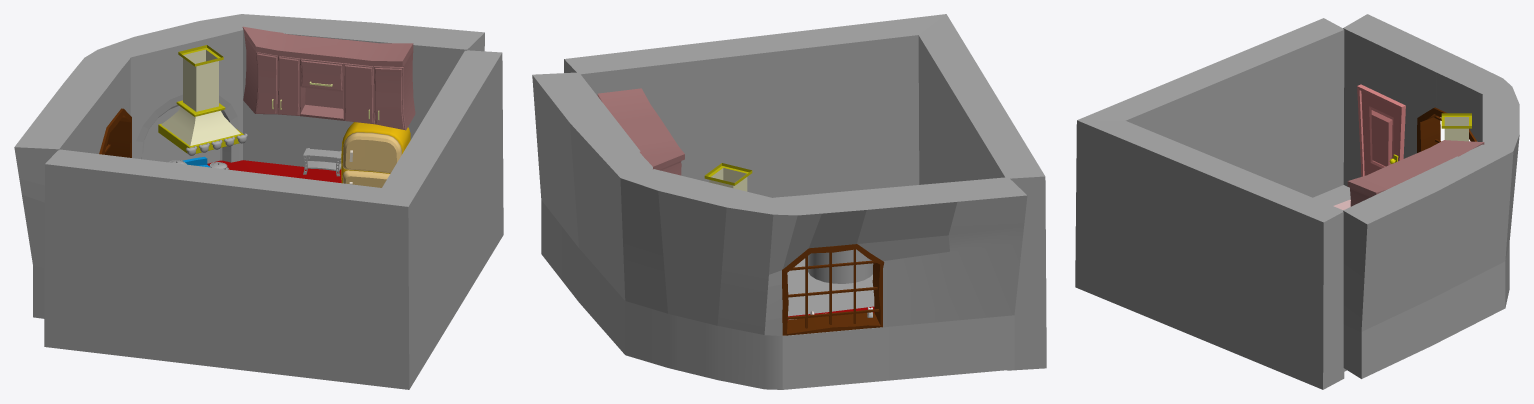
The model's file is kitchen_v02_sizing 1.fbx.
The picture shows the model from 3 angles, left to right: view 1: azimuth 30°, elevation 25°; view 2: azimuth 150°, elevation 25°; view 3: azimuth 270°, elevation 25°; orthographic projection. The views are drawn at different scales.
Visible parts, largest first — view 1: wall2, wall, dech_body, hood_body, refri_door1, dech_down_1, hood_popout, window, refri_body, shelf; view 2: wall, wall2, dech_body, window, floor, stage, pCube25, hood_body; view 3: wall2, wall, door_body, dech_body, window, hood_body, floor.
Boxes of the visible parts, bbox=[...] form: wall2: bbox=[44, 50, 503, 389]; wall: bbox=[14, 14, 484, 318]; dech_body: bbox=[242, 26, 415, 130]; hood_body: bbox=[161, 49, 240, 145]; refri_door1: bbox=[342, 132, 401, 187]; dech_down_1: bbox=[207, 160, 341, 182]; hood_popout: bbox=[158, 45, 243, 153]; window: bbox=[99, 108, 131, 157]; refri_body: bbox=[341, 122, 410, 183]; shelf: bbox=[303, 148, 341, 176]; wall: bbox=[532, 72, 1027, 389]; wall2: bbox=[564, 14, 1046, 370]; dech_body: bbox=[597, 88, 684, 175]; window: bbox=[782, 244, 884, 335]; floor: bbox=[787, 258, 874, 316]; stage: bbox=[808, 249, 873, 283]; pCube25: bbox=[787, 249, 879, 328]; hood_body: bbox=[709, 168, 747, 191]; wall2: bbox=[1075, 18, 1344, 389]; wall: bbox=[1343, 14, 1519, 378]; door_body: bbox=[1357, 84, 1405, 176]; dech_body: bbox=[1347, 140, 1484, 206]; window: bbox=[1417, 107, 1476, 152]; hood_body: bbox=[1444, 117, 1468, 141]; floor: bbox=[1313, 185, 1350, 371].
Size of the model in its own units: 18638 by 7063 by 16641.
